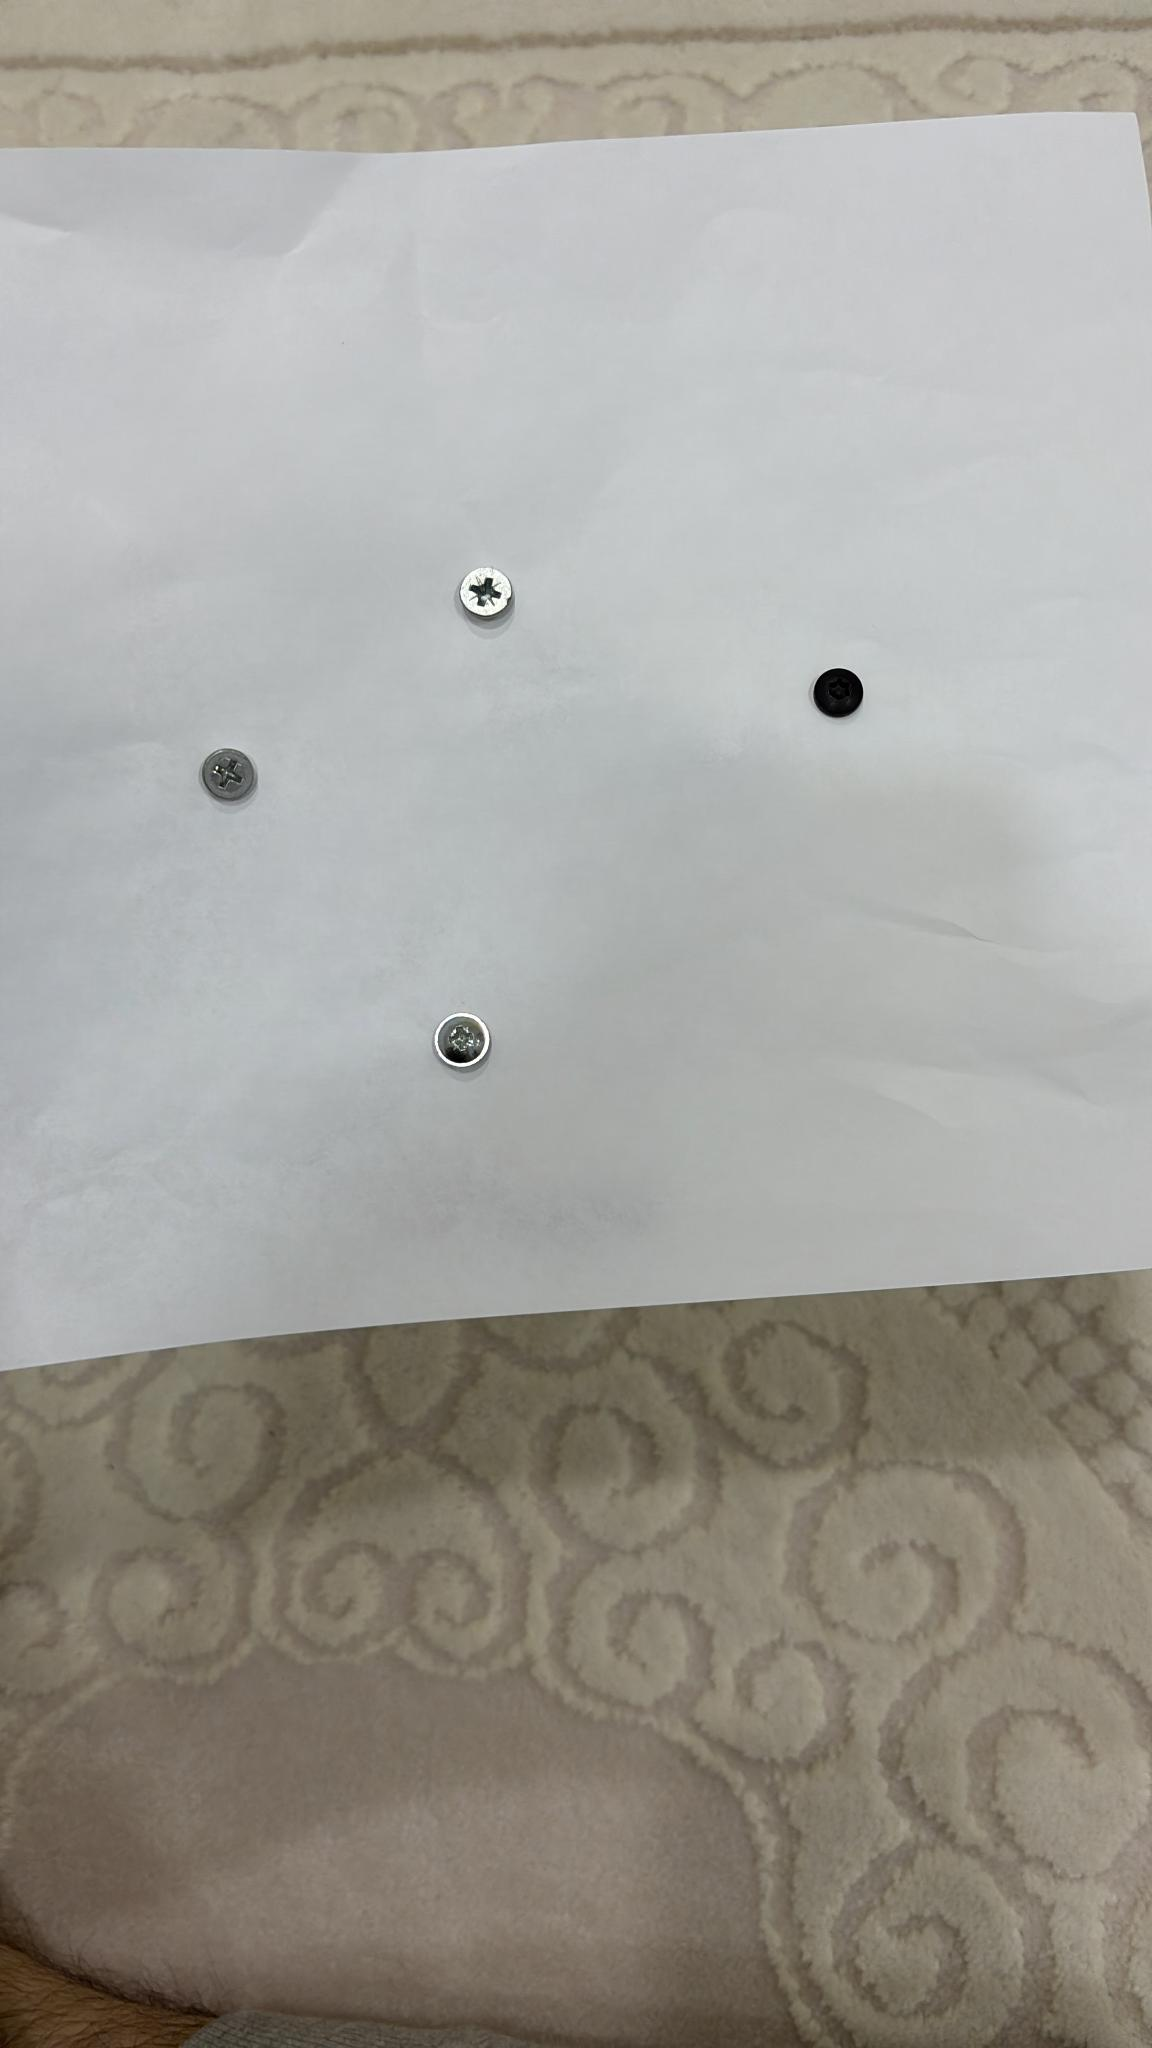H: (813, 668, 862, 717)
PH: (201, 748, 256, 802)
PZ: (435, 1013, 489, 1068), (460, 565, 513, 620)
